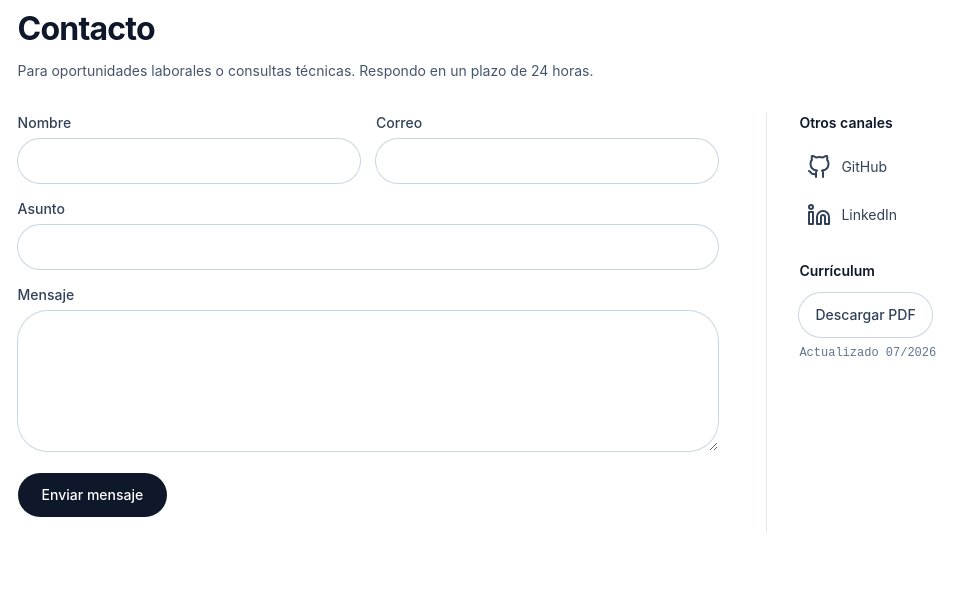
<ContactForm /> › muestra confirmación y limpia el formulario cuando la API responde success
Type "Ada" into the field labelled "Nombre" at (189, 161), box x1=18 y1=139 x2=360 y2=183
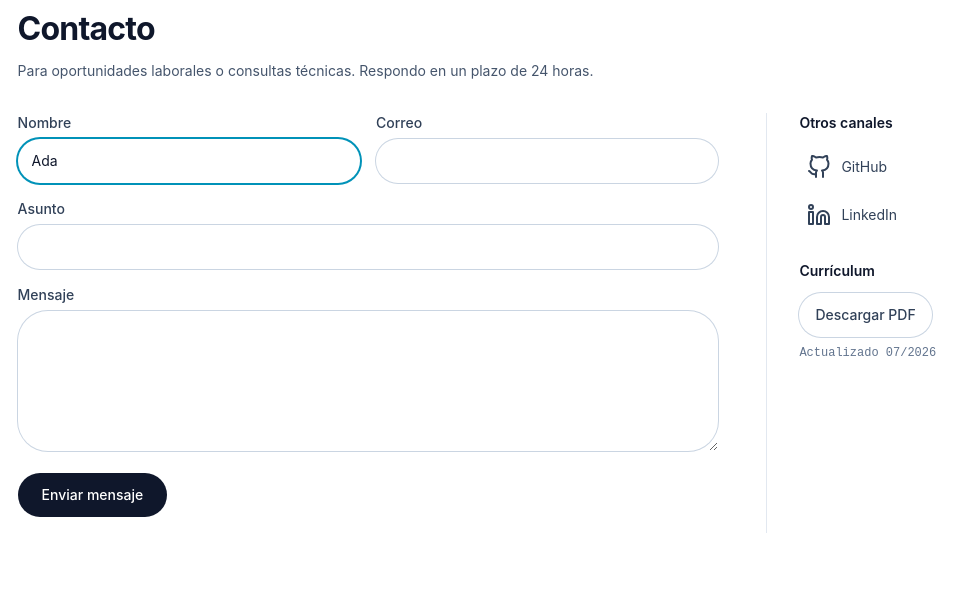
Type "ada@example.com" into the field labelled "Correo" at (547, 161), box x1=376 y1=139 x2=718 y2=183
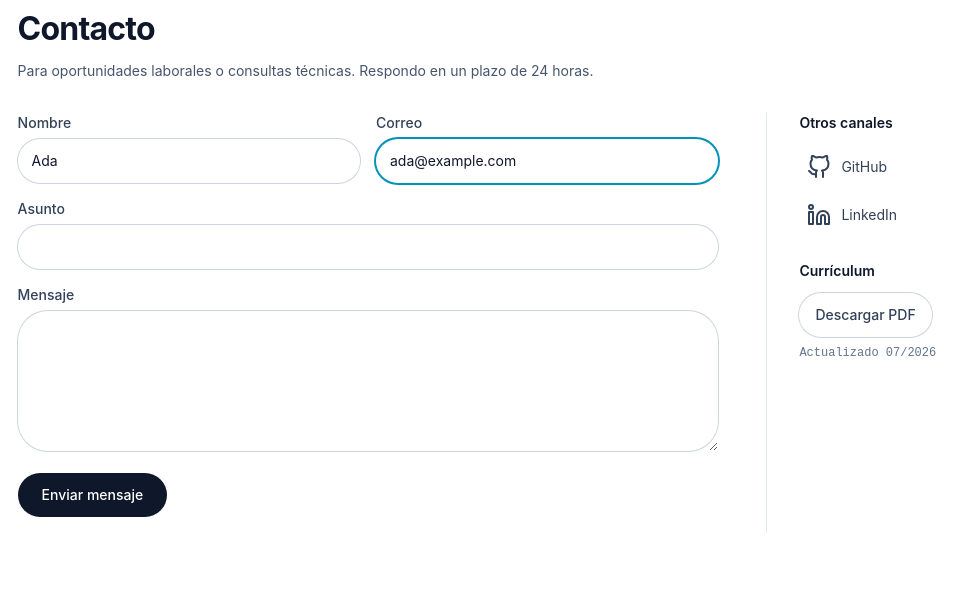
Type "Hola" into the field labelled "Asunto" at (368, 247), box x1=18 y1=225 x2=718 y2=269
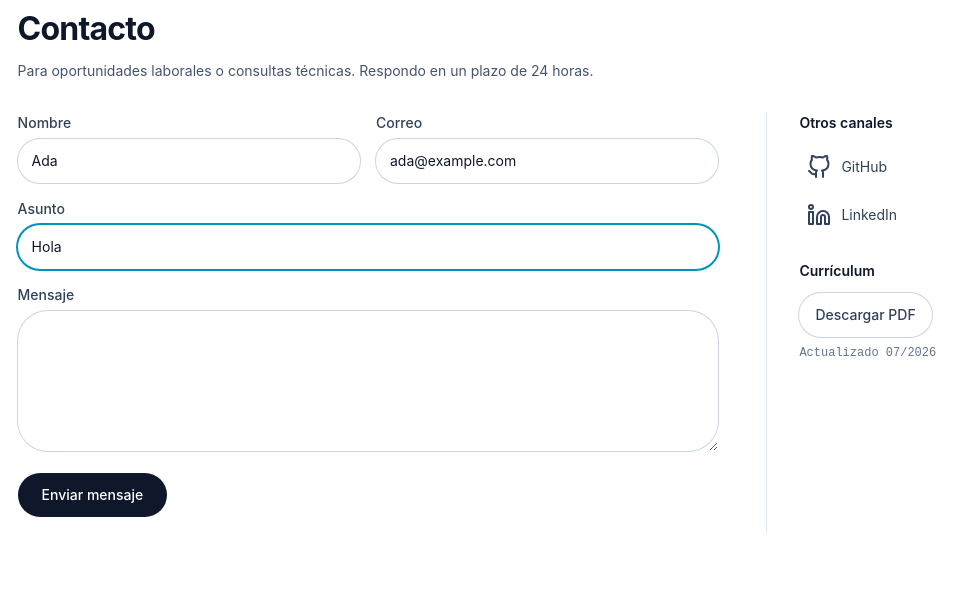
Type "Mensaje de prueba" into the text box labelled "Mensaje" at (368, 381), box x1=18 y1=311 x2=718 y2=451
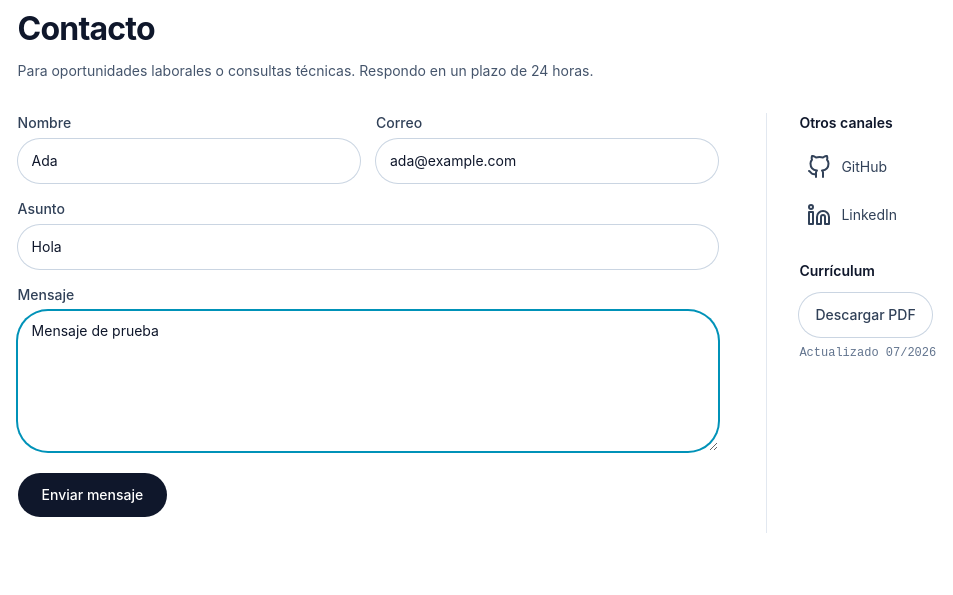
Click the button "Enviar mensaje" at (92, 495), box x1=18 y1=473 x2=167 y2=517
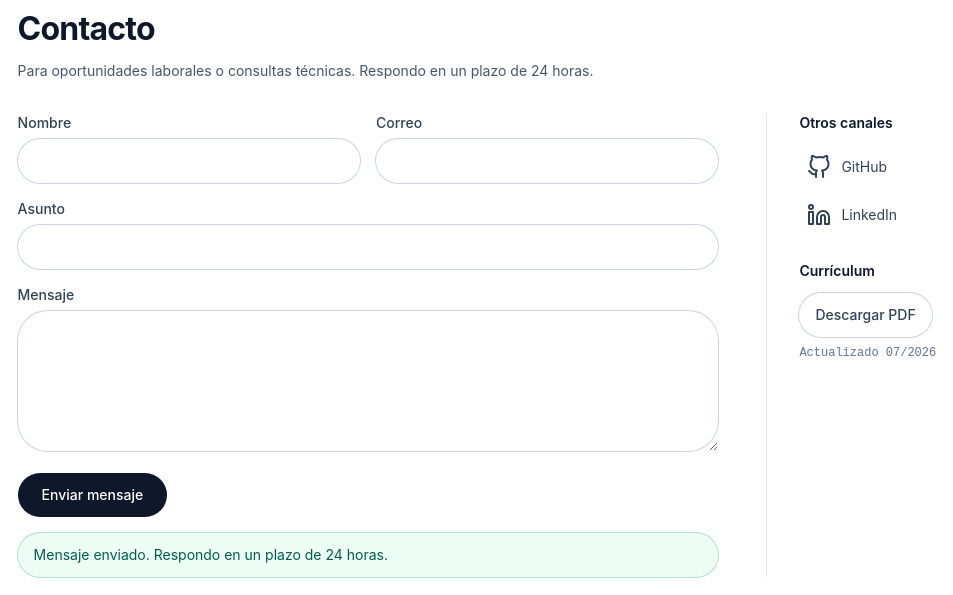
Check: the text "Mensaje enviado. Respondo en un plazo de 24 horas." is shown, box x1=18 y1=533 x2=718 y2=577
Check: the field labelled "Nombre" is empty, box x1=18 y1=139 x2=360 y2=183
